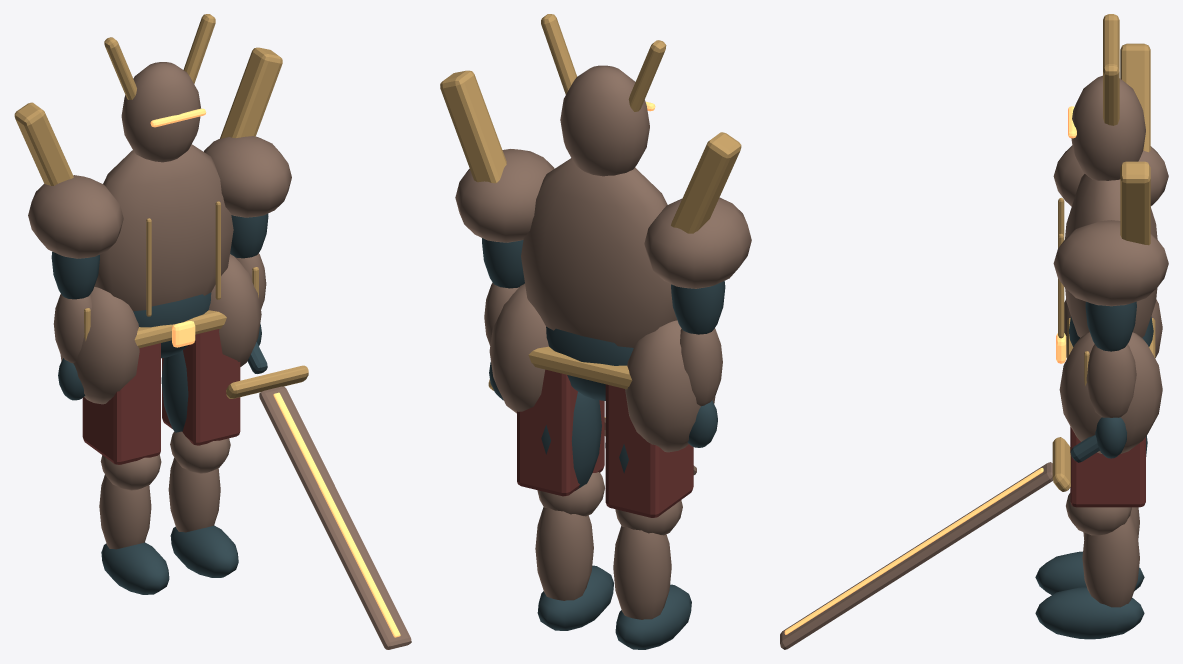
The model's file is boss.glb.
The picture shows the model from 3 angles, left to right: view 1: azimuth 30°, elevation 25°; view 2: azimuth 150°, elevation 25°; view 3: azimuth 270°, elevation 25°; orthographic projection. The views are drawn at different scales.
Visible parts, largest first — view 1: Breastplate, Blade, Tabard, Pauldron, Face, Tabard.001, Hip guard, Pauldron.001, Hip guard.001, Royal spike.001, Greave.001, Greave (+19 smaller); view 2: Breastplate, Face, Tabard, Hip guard, Pauldron, Tabard.001, Pauldron.001, Hip guard.001, Greave.001, Greave, Royal spike.001, Royal spike (+14 smaller); view 3: Pauldron.001, Hip guard.001, Face, Blade, Tabard.001, Greave.001, Boot.001, Breastplate, Bracer.001, Royal spike.001, Upper arm.001, Pauldron (+9 smaller).
Part boxes in pixels (x1,y1,x2,y2): Breastplate: [94, 144, 233, 311]; Blade: [259, 386, 411, 649]; Tabard: [82, 343, 160, 464]; Pauldron: [28, 175, 123, 258]; Face: [121, 62, 200, 162]; Tabard.001: [162, 329, 240, 445]; Hip guard: [60, 287, 139, 404]; Pauldron.001: [204, 136, 291, 217]; Hip guard.001: [208, 254, 261, 366]; Royal spike.001: [220, 47, 282, 138]; Greave.001: [168, 457, 220, 532]; Greave: [99, 474, 151, 549]; Breastplate: [521, 158, 677, 347]; Face: [560, 65, 649, 176]; Tabard: [605, 384, 693, 517]; Hip guard: [625, 320, 715, 452]; Pauldron: [644, 197, 751, 288]; Tabard.001: [517, 369, 604, 496]; Pauldron.001: [455, 149, 554, 242]; Hip guard.001: [489, 283, 548, 413]; Greave.001: [535, 507, 593, 600]; Greave: [613, 526, 671, 619]; Royal spike.001: [440, 70, 506, 183]; Royal spike: [671, 132, 741, 233]; Pauldron.001: [1053, 220, 1168, 306]; Hip guard.001: [1059, 332, 1162, 453]; Face: [1071, 75, 1145, 180]; Blade: [780, 462, 1052, 649]; Tabard.001: [1070, 426, 1145, 507]; Greave.001: [1082, 515, 1139, 607]; Boot.001: [1035, 587, 1144, 639]; Breastplate: [1065, 174, 1157, 337]; Bracer.001: [1086, 344, 1136, 417]; Royal spike.001: [1120, 161, 1150, 245]; Upper arm.001: [1085, 301, 1136, 351]; Pauldron: [1053, 145, 1168, 206].
Bounding box in the file's own units: 1.88 × 3.79 × 2.31.
